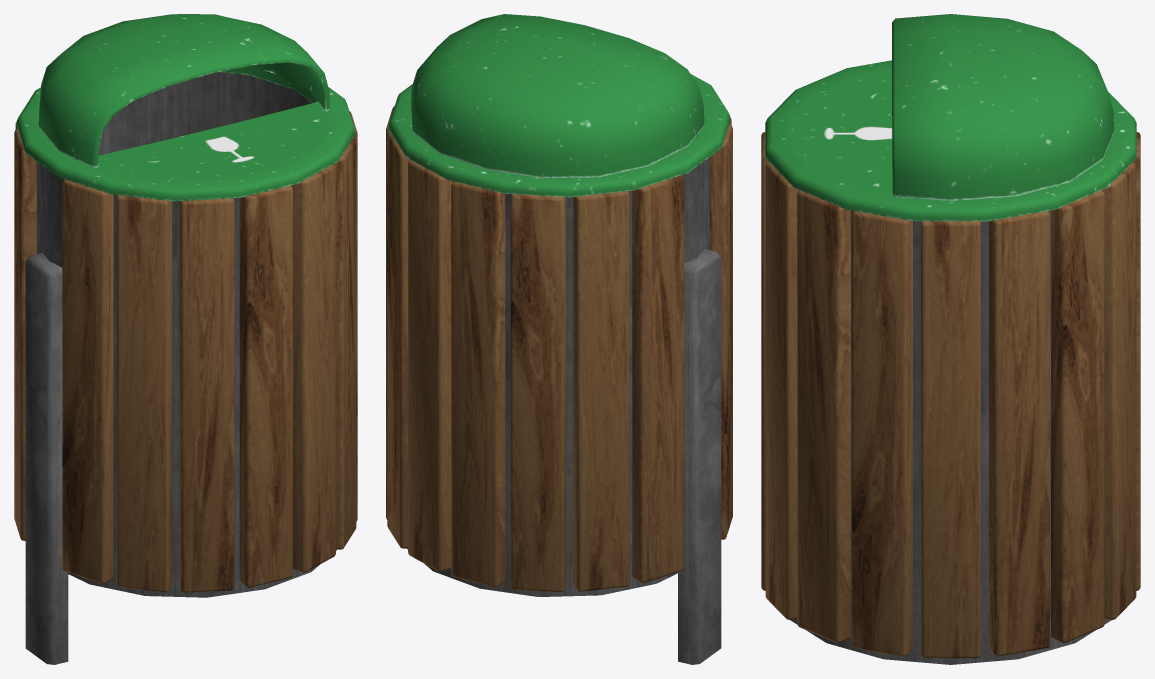
The model's file is Rubbish.fbx.
3 views of the same model, side by side, from view 1: azimuth 30°, elevation 25°; view 2: azimuth 150°, elevation 25°; view 3: azimuth 270°, elevation 25° (orthographic). The views are drawn at different scales.
Parts seen in each view (by area): view 1: Rubbush; view 2: Rubbush; view 3: Rubbush.
Part boxes in pixels (box(x1,y1,x2,y2)): Rubbush: box(14, 14, 357, 664); Rubbush: box(386, 14, 732, 664); Rubbush: box(761, 14, 1140, 664).
Bounding box in the file's own units: 63 × 117 × 63.5.
